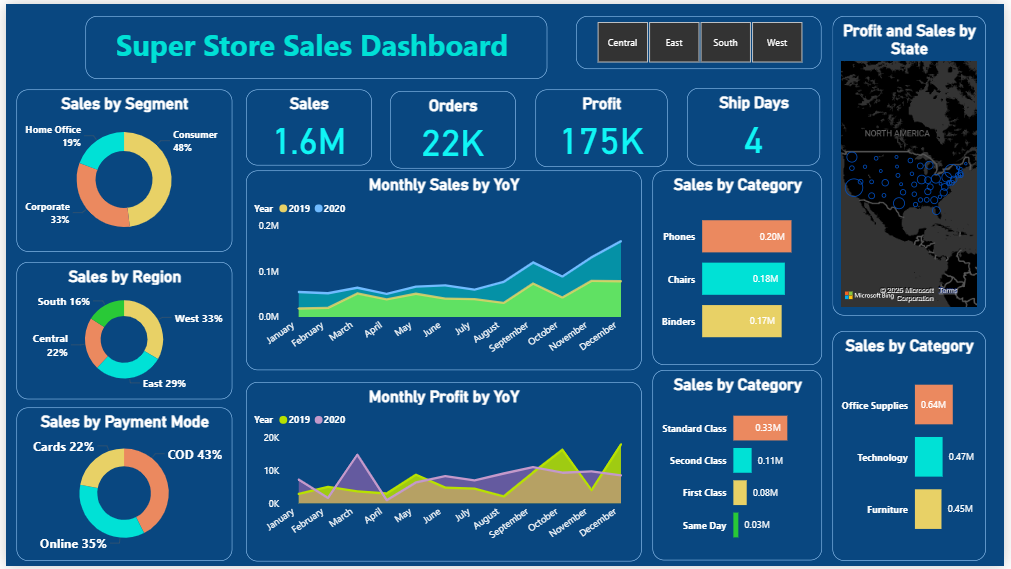

The page's visual inventory and layout, read from the dashboard file:
{"tool":"powerbi","page":{"name":"Dashboard","canvas":[1280,720],"ordinal":0},"visuals":[{"type":"clusteredBarChart","title":" Sales by Category ","fields":{"Category":["SuperStore_Sales_Dataset.Sub-Category"],"Y":["Sum(SuperStore_Sales_Dataset.Sales)"]},"box":[828.1,214,217.5,249.1],"z":0},{"type":"clusteredBarChart","title":" Sales by Category ","fields":{"Category":["SuperStore_Sales_Dataset.Category","SuperStore_Sales_Dataset.Sub-Category"],"Y":["Sum(SuperStore_Sales_Dataset.Sales)"]},"box":[1059.6,419.3,196.5,294.7],"z":1000},{"type":"clusteredBarChart","title":" Sales by Category ","fields":{"Category":["SuperStore_Sales_Dataset.Ship Mode"],"Y":["Sum(SuperStore_Sales_Dataset.Sales)"]},"box":[828.1,470.2,217.5,243.9],"z":2000},{"type":"areaChart","title":" Monthly Sales by YoY","fields":{"Y":["Sum(SuperStore_Sales_Dataset.Sales)"],"Category":["SuperStore_Sales_Dataset.Order Date.Variation.Date Hierarchy.Month","SuperStore_Sales_Dataset.Order Date.Variation.Date Hierarchy.Day"],"Series":["SuperStore_Sales_Dataset.Order Date.Variation.Date Hierarchy.Year"]},"box":[307,214,507,256.1],"z":3000},{"type":"areaChart","title":" Monthly Profit by YoY","fields":{"Category":["SuperStore_Sales_Dataset.Order Date.Variation.Date Hierarchy.Month","SuperStore_Sales_Dataset.Order Date.Variation.Date Hierarchy.Day"],"Series":["SuperStore_Sales_Dataset.Order Date.Variation.Date Hierarchy.Year"],"Y":["Sum(SuperStore_Sales_Dataset.Profit)"]},"box":[307,484.2,507,229.8],"z":4000},{"type":"map","title":" Profit and Sales by State","fields":{"Category":["SuperStore_Sales_Dataset.State"],"Size":["Sum(SuperStore_Sales_Dataset.Sales)"]},"box":[1059.6,15.8,196.5,384.2],"z":5000},{"type":"donutChart","title":" Sales by Segment","fields":{"Category":["SuperStore_Sales_Dataset.Segment"],"Y":["Sum(SuperStore_Sales_Dataset.Sales)"]},"box":[13,109,276.5,208.2],"z":6000},{"type":"donutChart","title":" Sales by Payment Mode","fields":{"Y":["Sum(SuperStore_Sales_Dataset.Sales)"],"Category":["SuperStore_Sales_Dataset.Payment Mode"]},"box":[13,517.2,276.5,196.8],"z":7000},{"type":"slicer","fields":{"Values":["SuperStore_Sales_Dataset.Region"]},"box":[730.6,16.1,314.5,67.7],"z":8000},{"type":"textbox","box":[101.6,16.1,591.9,80.6],"z":9000},{"type":"card","title":"Sales ","fields":{"Values":["Sum(SuperStore_Sales_Dataset.Sales)"]},"box":[307.4,109,161,97.6],"z":10000},{"type":"card","title":"Orders","fields":{"Values":["Sum(SuperStore_Sales_Dataset.Quantity)"]},"box":[492.8,110.6,161,99.2],"z":11000},{"type":"card","title":" Profit ","fields":{"Values":["Sum(SuperStore_Sales_Dataset.Profit)"]},"box":[678.3,109,169.2,99.2],"z":12000},{"type":"card","title":"Ship Days ","fields":{"Values":["Avg(SuperStore_Sales_Dataset.avgDelivery)"]},"box":[873.5,107.4,170.8,99.2],"z":13000},{"type":"donutChart","title":" Sales by Region ","fields":{"Y":["Sum(SuperStore_Sales_Dataset.Sales)"],"Category":["SuperStore_Sales_Dataset.Region"]},"box":[13,330.2,276.5,175.7],"z":14000}]}

Visuals, with their boxes in screenshot pixels (x1, y1, x2, y2), scaled from the page's 1280x720 canvas onto the 1011x569 screenshot:
" Sales by Category " clusteredBarChart: <bbox>654, 169, 826, 366</bbox>
" Sales by Category " clusteredBarChart: <bbox>837, 331, 992, 564</bbox>
" Sales by Category " clusteredBarChart: <bbox>654, 372, 826, 564</bbox>
" Monthly Sales by YoY" areaChart: <bbox>242, 169, 643, 372</bbox>
" Monthly Profit by YoY" areaChart: <bbox>242, 383, 643, 564</bbox>
" Profit and Sales by State" map: <bbox>837, 12, 992, 316</bbox>
" Sales by Segment" donutChart: <bbox>10, 86, 229, 251</bbox>
" Sales by Payment Mode" donutChart: <bbox>10, 409, 229, 564</bbox>
slicer - SuperStore_Sales_Dataset.Region: <bbox>577, 13, 825, 66</bbox>
textbox: <bbox>80, 13, 548, 76</bbox>
"Sales " card: <bbox>243, 86, 370, 163</bbox>
"Orders" card: <bbox>389, 87, 516, 166</bbox>
" Profit " card: <bbox>536, 86, 669, 165</bbox>
"Ship Days " card: <bbox>690, 85, 825, 163</bbox>
" Sales by Region " donutChart: <bbox>10, 261, 229, 400</bbox>
